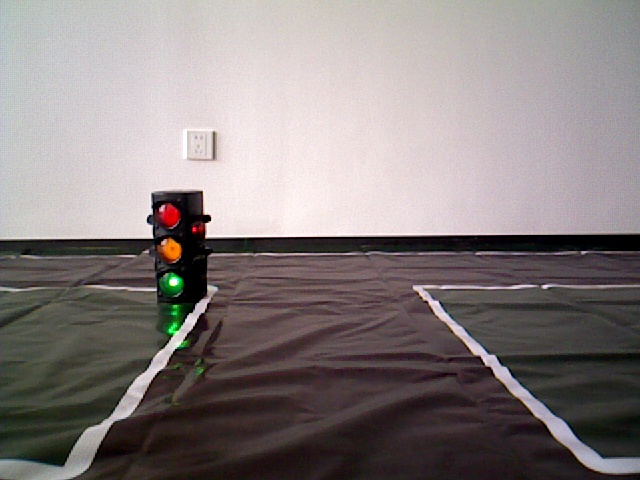green: (155, 194, 200, 296)
